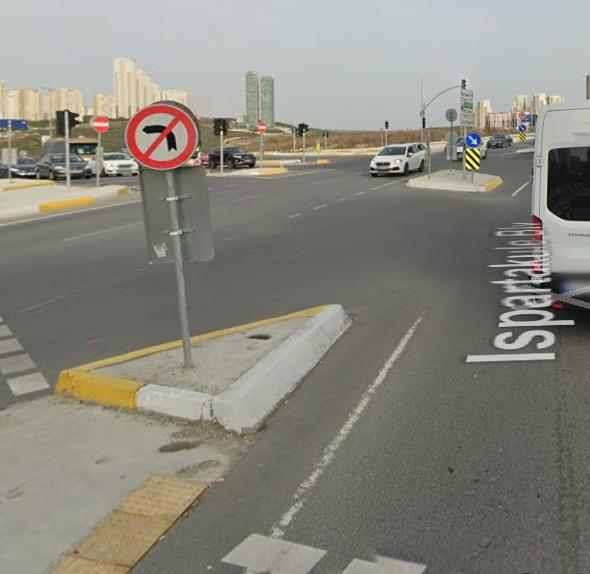leftturnsareforbidden: (132, 105, 191, 167)
